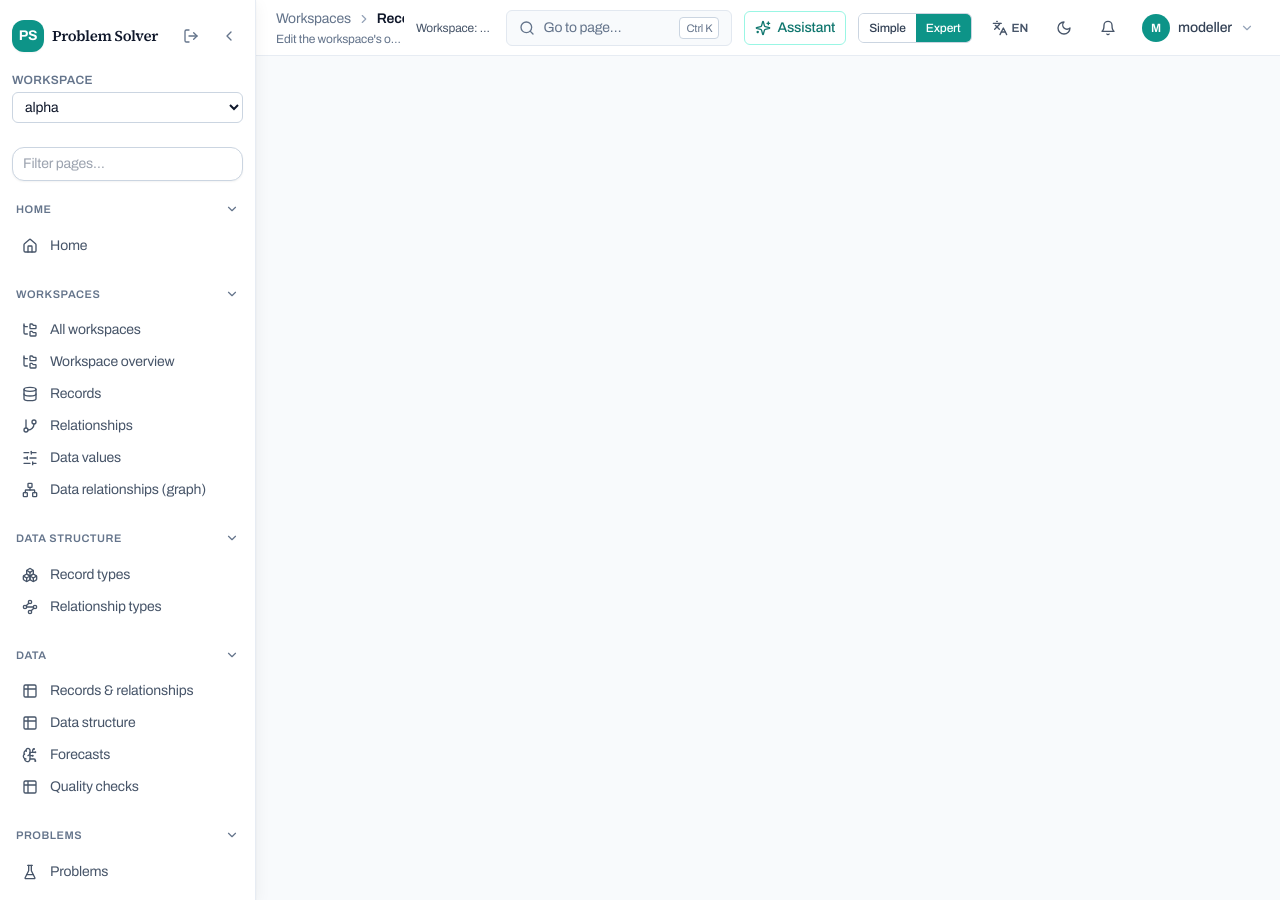
Test: AppShell › collapsible groups (A-4) › hides a group's pages when its heading is clicked, and shows them again on a second click
Expected: the link "Problems" is shown, left=22, top=864, right=108, bottom=880
Click the button "Problems" at [128, 835], box left=12, top=819, right=243, bottom=852
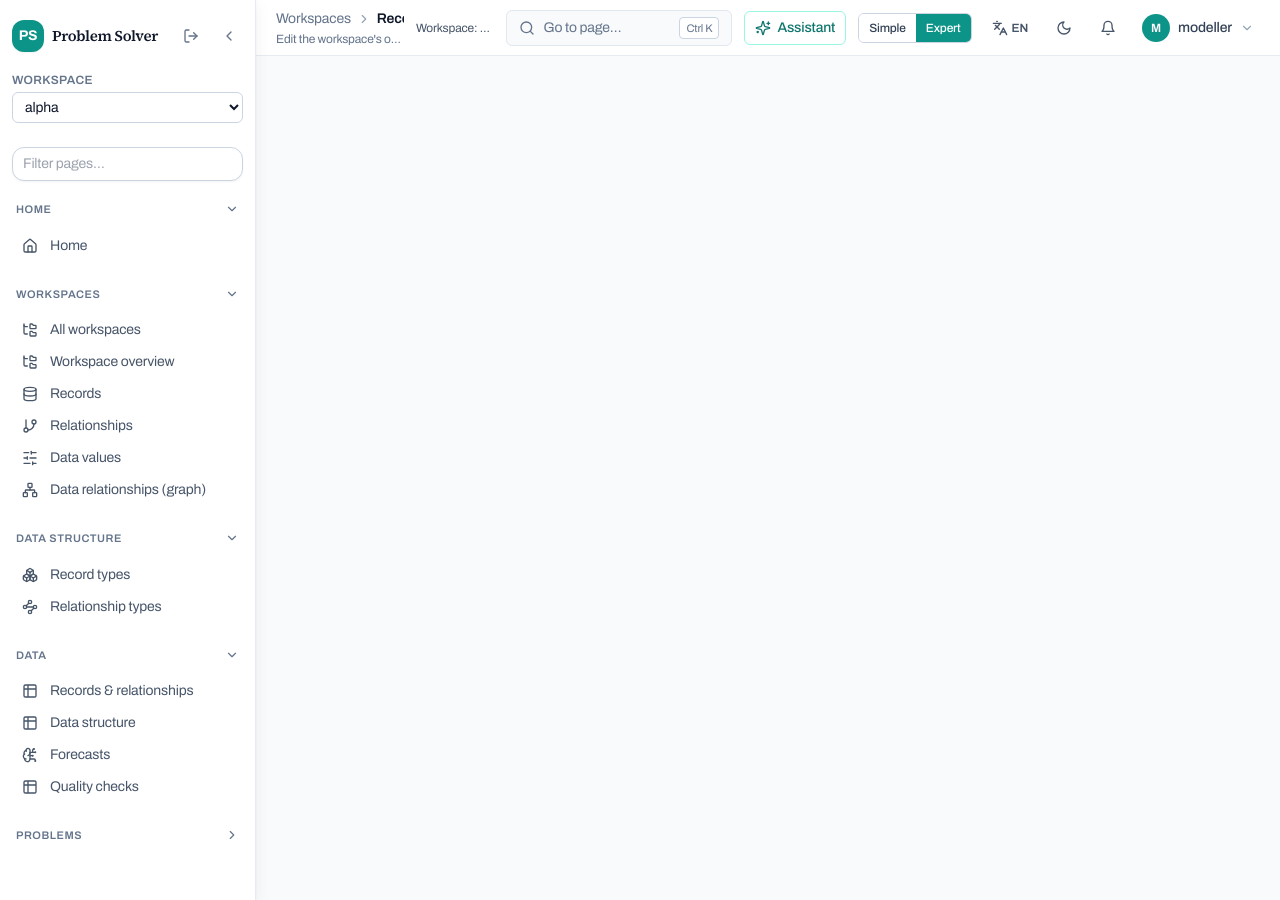
Expected: the link "All workspaces" is shown, left=22, top=322, right=141, bottom=338
Result: the button "Problems" is collapsed
Click the button "Problems" at [128, 835], box left=12, top=819, right=243, bottom=852
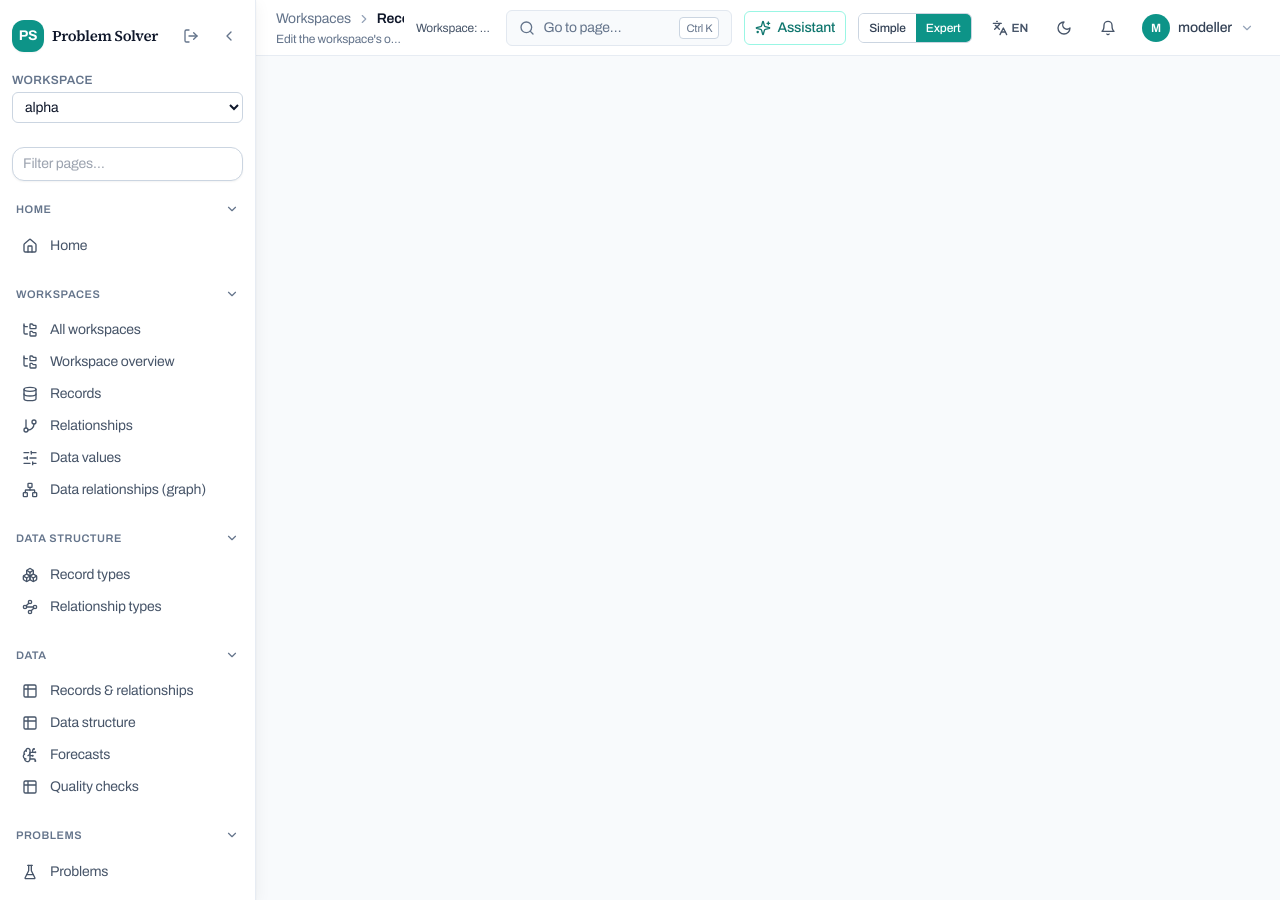
Result: the link "Problems" is shown at left=22, top=864, right=108, bottom=880
